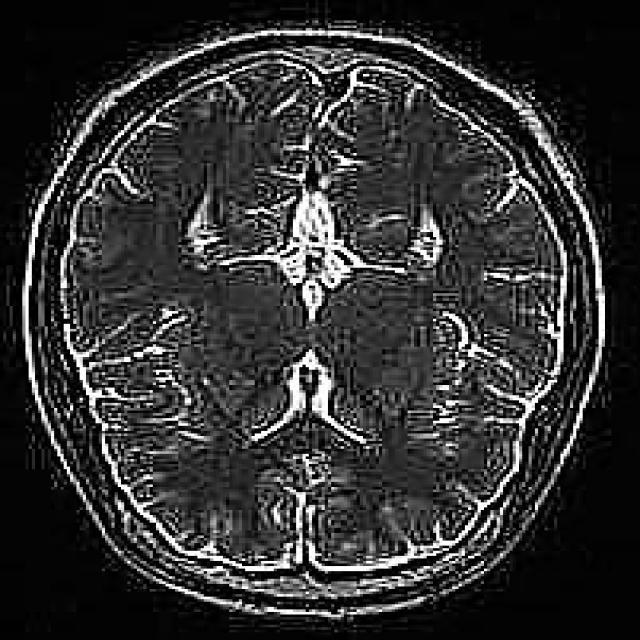notumor: (22, 28, 608, 625)
